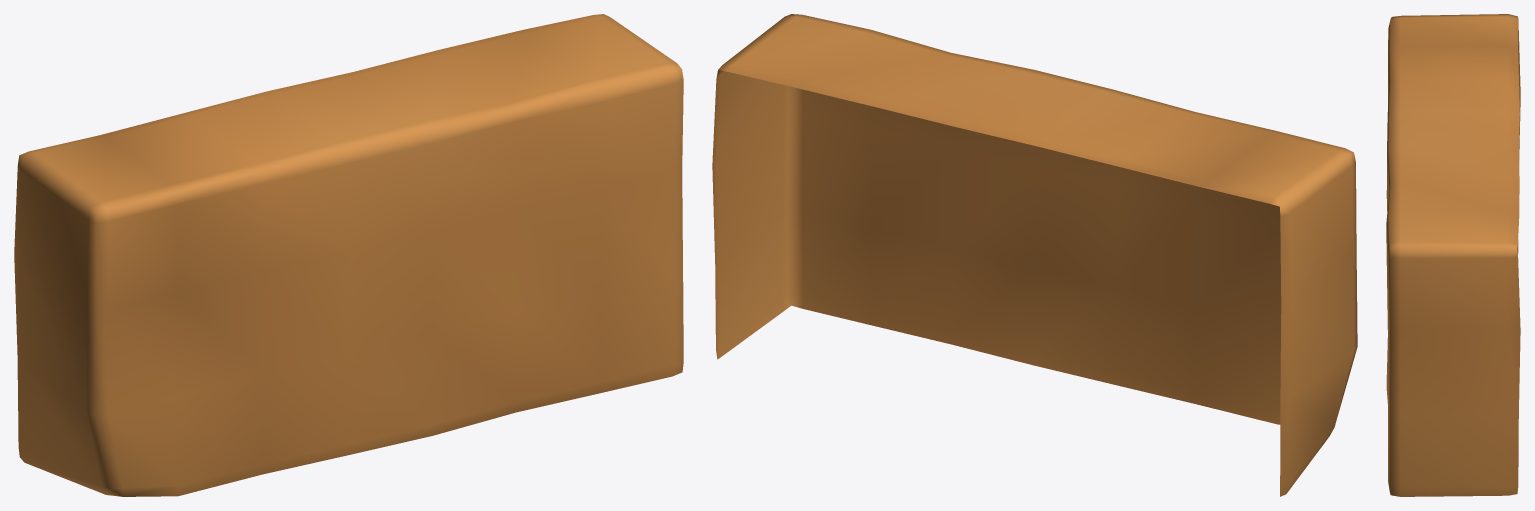
The model's file is block_e.glb.
3 views of the same model, side by side, from view 1: azimuth 30°, elevation 25°; view 2: azimuth 150°, elevation 25°; view 3: azimuth 270°, elevation 25° (orthographic). The views are drawn at different scales.
Parts seen in each view (by area): view 1: block_e; view 2: block_e; view 3: block_e.
Boxes of the visible parts, x1,y1,x2,y2 form: block_e: (14,14,683,496); block_e: (712,14,1357,496); block_e: (1386,14,1520,496).
Size of the model in its own units: 1.51 by 0.7489 by 0.3625.
